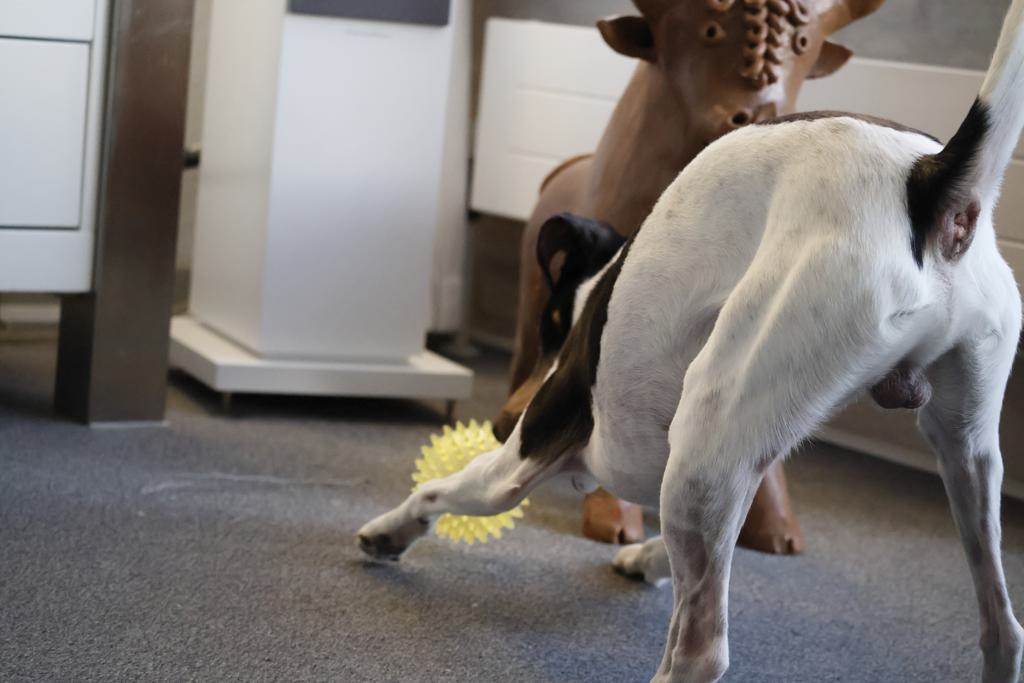Cattle: (460, 0, 892, 572)
Dog: (347, 0, 1024, 683)
